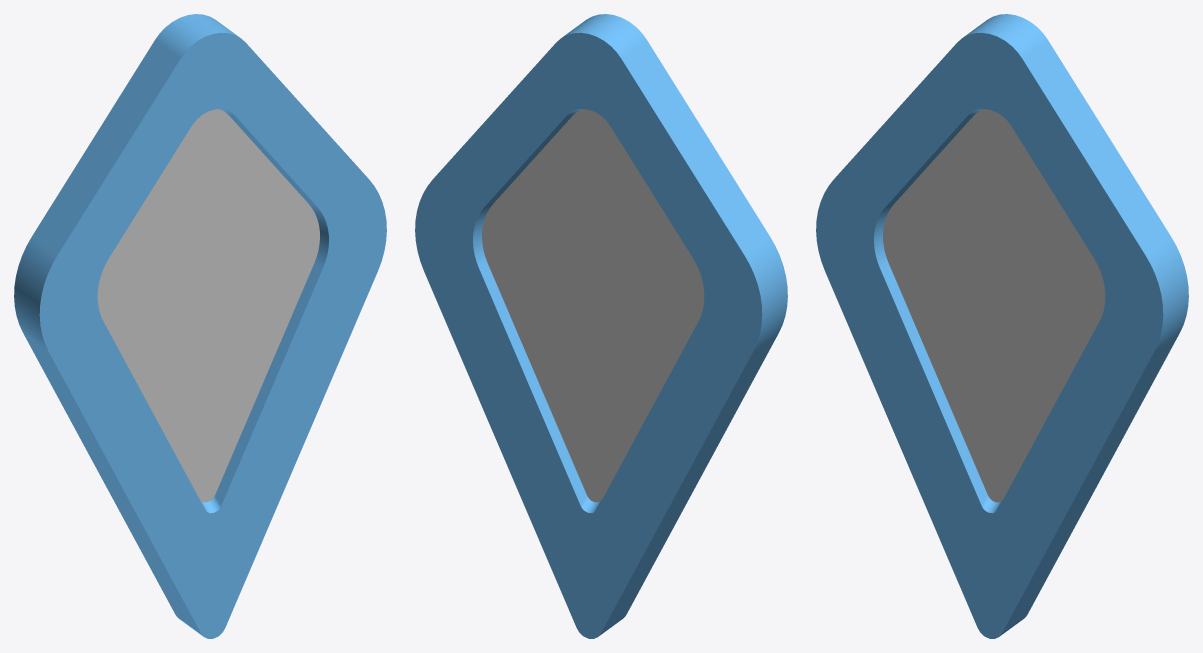
File: notification.glb
The picture shows the model from 3 angles, left to right: view 1: azimuth 30°, elevation 25°; view 2: azimuth 150°, elevation 25°; view 3: azimuth 330°, elevation 25°; orthographic projection.
Visible parts, largest first — view 1: Notification; view 2: Notification; view 3: Notification.
Boxes of the visible parts, x1,y1,x2,y2 form: Notification: [14, 14, 386, 638]; Notification: [415, 14, 787, 638]; Notification: [816, 14, 1188, 638].
Bounding box in the file's own units: 0.00977 × 0.0163 × 0.00125.
